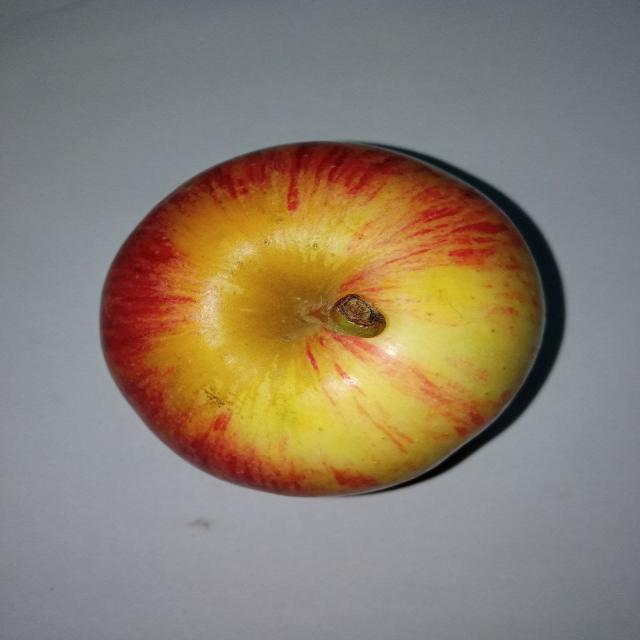fresh_apple: (100, 142, 544, 496)
